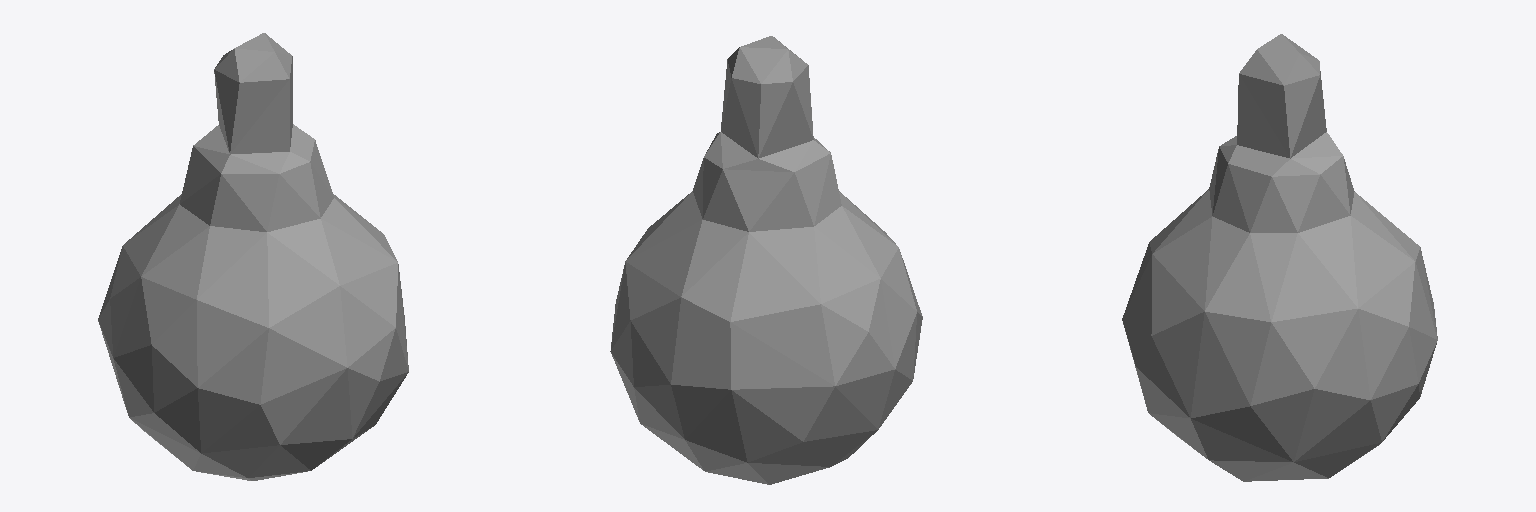
File: bulb.obj
3 renders of one model, left to right at view 1: azimuth 30°, elevation 25°; view 2: azimuth 150°, elevation 25°; view 3: azimuth 270°, elevation 25°, orthographic.
Visible parts, largest first — view 1: Bulb-Low_poly_Sphere; view 2: Bulb-Low_poly_Sphere; view 3: Bulb-Low_poly_Sphere.
Part boxes in pixels (bbox=[...]): Bulb-Low_poly_Sphere: bbox=[98, 33, 408, 480]; Bulb-Low_poly_Sphere: bbox=[610, 36, 922, 484]; Bulb-Low_poly_Sphere: bbox=[1122, 34, 1437, 481].
Size of the model in its own units: 2.08 by 3.13 by 2.11.